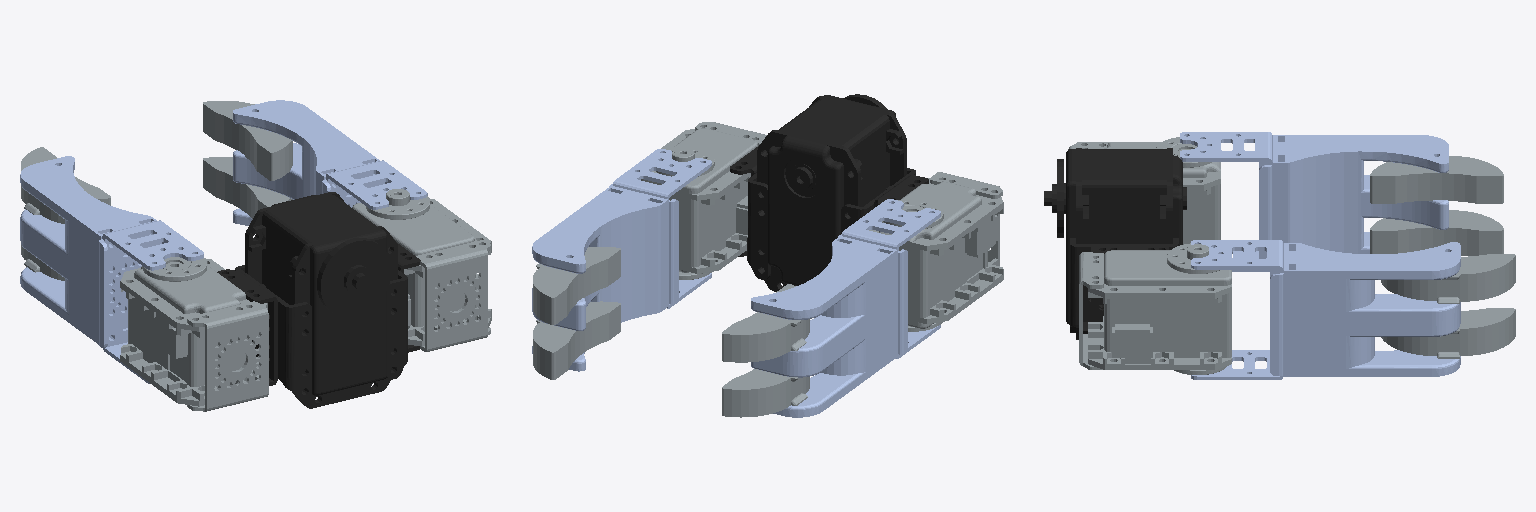
The robot description file, URDF, robot "gripper":
<?xml version="1.0" encoding="utf-8"?>



<robot name="gripper">
  <link name="base_link">
    <inertial>
      <origin
        xyz="-9.6291E-09 -0.00038057 -0.015989"
        rpy="0 0 0" />
      <mass
        value="0.080698" />
      <inertia
        ixx="3.1972E-05"
        ixy="-1.1635E-11"
        ixz="-1.916E-12"
        iyy="2.5871E-05"
        iyz="8.8121E-07"
        izz="1.8242E-05" />
    </inertial>
    <visual>
      <origin
        xyz="0 0 0"
        rpy="0 0 0" />
      <geometry>
        <mesh
          filename="package://gripper/meshes/gripper_base_link.STL" />
      </geometry>
      <material
        name="">
        <color
          rgba="0.2 0.2 0.2 1" />
      </material>
    </visual>
    <collision>
      <origin
        xyz="0 0 0"
        rpy="0 0 0" />
      <geometry>
        <mesh
          filename="package://gripper/meshes/gripper_base_link.STL" />
      </geometry>
    </collision>
  </link>
  <link
    name="motor1_link">
    <inertial>
      <origin
        xyz="-6.8132E-06 -0.011983 -1.1247E-05"
        rpy="0 0 0" />
      <mass
        value="0.046265" />
      <inertia
        ixx="1.2462E-05"
        ixy="-2.2251E-09"
        ixz="1.7814E-13"
        iyy="7.8259E-06"
        iyz="-1.8276E-07"
        izz="1.0506E-05" />
    </inertial>
    <visual>
      <origin
        xyz="0 0 0"
        rpy="0 0 0" />
      <geometry>
        <mesh
          filename="package://gripper/meshes/motor1_link.STL" />
      </geometry>
      <material
        name="">
        <color
          rgba="0.64314 0.67843 0.69804 1" />
      </material>
    </visual>
    <collision>
      <origin
        xyz="0 0 0"
        rpy="0 0 0" />
      <geometry>
        <mesh
          filename="package://gripper/meshes/motor1_link.STL" />
      </geometry>
    </collision>
  </link>
  <joint
    name="gripper_motor1_joint"
    type="fixed">
    <origin
      xyz="0.0448 0.025822 -0.022247"
      rpy="0 0 0" />
    <parent
      link="base_link" />
    <child
      link="motor1_link" />
    <axis
      xyz="0 0 0" />
  </joint>
  <link
    name="hand1_link">
    <inertial>
      <origin
        xyz="0.020 0.014965 -0.021264"
        rpy="0 0 0" />
      <mass
        value="0.034799" />
      <inertia
        ixx="1.1668E-05"
        ixy="1.0081E-14"
        ixz="1.9718E-14"
        iyy="1.5945E-05"
        iyz="1.2429E-07"
        izz="6.7071E-06" />
    </inertial>
    <visual>
      <origin
        xyz="-0.013 0.03 0.022"
        rpy="1.5707 1.5707 0" />
      <geometry>
        <mesh
          filename="package://gripper/meshes/hand1_link.STL" />
      </geometry>
      <material
        name="">
        <color
          rgba="0.73333 0.8 0.93333 1" />
      </material>
    </visual>
    <collision>
      <origin
        xyz="0 0 0"
        rpy="0 0 0" />
      <geometry>
        <mesh
          filename="package://gripper/meshes/hand1_link.STL" />
      </geometry>
    </collision>
  </link>
  <joint
    name="motor1_hand_joint"
    type="revolute">
    <origin
      xyz="0 0 0"
      rpy="0 0 0" />
    <parent
      link="motor1_link" />
    <child
      link="hand1_link" />
    <axis
      xyz="0 0 1" />
    <limit
      lower="-1"
      upper="1"
      effort="10"
      velocity="0.5" />
  </joint>
  <link
    name="fingertip1_1_link">
    <inertial>
      <origin
        xyz="-0.0010321 0.0050002 -3.5129E-05"
        rpy="0 0 0" />
      <mass
        value="0.0062622" />
      <inertia
        ixx="9.7768E-07"
        ixy="1.568E-11"
        ixz="1.5157E-09"
        iyy="1.0446E-06"
        iyz="5.6166E-12"
        izz="1.8516E-07" />
    </inertial>
    <visual>
      <origin
        xyz="0 0 0"
        rpy="1.5708 0 3.141592" />
      <geometry>
        <mesh
          filename="package://gripper/meshes/fingertip1_1_link.STL" />
      </geometry>
      <material
        name="">
        <color
          rgba="0.64314 0.67843 0.69804 1" />
      </material>
    </visual>
    <collision>
      <origin
        xyz="0 0 0"
        rpy="0 0 0" />
      <geometry>
        <mesh
          filename="package://gripper/meshes/fingertip1_1_link.STL" />
      </geometry>
    </collision>
  </link>
  <joint
    name="hand1_fingertip1_joint"
    type="revolute">
    <origin
      xyz="-0.0056 0.0877 0.0055"
      rpy="0 0 0" />
    <parent
      link="hand1_link" />
    <child
      link="fingertip1_1_link" />
    <axis
      xyz="0 0 1" />
    <limit
      lower="-1"
      upper="1"
      effort="10"
      velocity="0.5" />
  </joint>
  <link
    name="fingertip1_2_link">
    <inertial>
      <origin
        xyz="-0.0010321 0.0050002 -3.5129E-05"
        rpy="0 0 0" />
      <mass
        value="0.0062622" />
      <inertia
        ixx="9.7768E-07"
        ixy="1.5681E-11"
        ixz="1.5157E-09"
        iyy="1.0446E-06"
        iyz="5.6167E-12"
        izz="1.8516E-07" />
    </inertial>
    <visual>
      <origin
        xyz="0 0 0"
        rpy="-1.5708 0 3.141592" />
      <geometry>
        <mesh
          filename="package://gripper/meshes/fingertip1_2_link.STL" />
      </geometry>
      <material
        name="">
        <color
          rgba="0.64314 0.67843 0.69804 1" />
      </material>
    </visual>
    <collision>
      <origin
        xyz="0 0 0"
        rpy="0 0 0" />
      <geometry>
        <mesh
          filename="package://gripper/meshes/fingertip1_2_link.STL" />
      </geometry>
    </collision>
  </link>
  <joint
    name="hand1_fingertip2_joint"
    type="revolute">
    <origin
      xyz="-0.0056 0.0877 -0.0055"
      rpy="0 0 0" />
    <parent
      link="hand1_link" />
    <child
      link="fingertip1_2_link" />
    <axis
      xyz="0 0 1" />
    <limit
      lower="-1"
      upper="1"
      effort="10"
      velocity="0.5" />
  </joint>

  <link
    name="motor2_link">
    <inertial>
      <origin
        xyz="-6.81872308854609E-06 -0.0119928783986908 5.17211606763587E-06"
        rpy="0 0 0" />
      <mass
        value="0.0462274482802833" />
      <inertia
        ixx="1.24622128074611E-05"
        ixy="-2.22508786119693E-09"
        ixz="1.8268813185573E-13"
        iyy="7.82573953054426E-06"
        iyz="-1.82755036692311E-07"
        izz="1.05054790707959E-05" />
    </inertial>
    <visual>
      <origin
        xyz="0 0 0"
        rpy="0 0 0" />
      <geometry>
        <mesh
          filename="package://gripper/meshes/motor2_link.STL" />
      </geometry>
      <material
        name="">
        <color
          rgba="0.643137254901961 0.67843137254902 0.698039215686274 1" />
      </material>
    </visual>
    <collision>
      <origin
        xyz="0 0 0"
        rpy="0 0 0" />
      <geometry>
        <mesh
          filename="package://gripper/meshes/motor2_link.STL" />
      </geometry>
    </collision>
  </link>
  <joint
    name="gripper_motor2_joint"
    type="fixed">
    <origin
      xyz="-0.0448 0.021922 -0.022197"
      rpy="-3.1416 0 3.1416" />
    <parent
      link="base_link" />
    <child
      link="motor2_link" />
    <axis
      xyz="0 0 0" />
  </joint>
  <link
    name="hand2_link">
    <inertial>
      <origin
        xyz="0.0220000000752691 0.0149653706200003 -0.0212637563454309"
        rpy="0 0 0" />
      <mass
        value="0.0347994466456583" />
      <inertia
        ixx="1.16677313950533E-05"
        ixy="1.00809740098804E-14"
        ixz="1.97184247731626E-14"
        iyy="1.59453274627637E-05"
        iyz="1.24290823789907E-07"
        izz="6.70710825023172E-06" />
    </inertial>
    <visual>
      <origin
        xyz="-0.013 0.03 0.022"
        rpy="1.5707 1.5707 0" />
      <geometry>
        <mesh
          filename="package://gripper/meshes/hand2_link.STL" />
      </geometry>
      <material
        name="">
        <color
          rgba="0.733333333333333 0.8 0.933333333333333 1" />
      </material>
    </visual>
    <collision>
      <origin
        xyz="0 0 0"
        rpy="0 0 0" />
      <geometry>
        <mesh
          filename="package://gripper/meshes/hand2_link.STL" />
      </geometry>
    </collision>
  </link>
  <joint
    name="motor2_hand_joint"
    type="revolute">
    <origin
      xyz="0 0 0"
      rpy="0 0 0" />
    <parent
      link="motor2_link" />
    <child
      link="hand2_link" />
    <axis
      xyz="0 0 1" />
    <limit
      lower="-1"
      upper="1"
      effort="10"
      velocity="0.5" />
  </joint>
  <link
    name="fingertip2_1_link">
    <inertial>
      <origin
        xyz="-0.00103213757770203 0.00500024041740617 -3.51285615308589E-05"
        rpy="0 0 0" />
      <mass
        value="0.00626220315523217" />
      <inertia
        ixx="9.7767596887376E-07"
        ixy="1.56803668594996E-11"
        ixz="1.5157444715102E-09"
        iyy="1.04455526714601E-06"
        iyz="5.61662128246886E-12"
        izz="1.8516351841874E-07" />
    </inertial>
    <visual>
      <origin
        xyz="0 0 0"
        rpy="1.5708 0 3.141592" />
      <geometry>
        <mesh
          filename="package://gripper/meshes/fingertip2_1_link.STL" />
      </geometry>
      <material
        name="">
        <color
          rgba="0.643137254901961 0.67843137254902 0.698039215686274 1" />
      </material>
    </visual>
    <collision>
      <origin
        xyz="0 0 0"
        rpy="0 0 0" />
      <geometry>
        <mesh
          filename="package://gripper/meshes/fingertip2_1_link.STL" />
      </geometry>
    </collision>
  </link>
  <joint
    name="hand2_fingertip1_joint"
    type="revolute">
    <origin
      xyz="-0.0056 0.0877 0.0055"
      rpy="0 0 0" />
      
    <parent
      link="hand2_link" />
    <child
      link="fingertip2_1_link" />
    <axis
      xyz="0 0 1" />
    <limit
      lower="-1"
      upper="1"
      effort="10"
      velocity="0.5" />
  </joint>
  <link
    name="fingertip2_2_link">
    <inertial>
      <origin
        xyz="-0.00103213758851112 0.00500024042187516 -3.51285664263457E-05"
        rpy="0 0 0" />
      <mass
        value="0.00626220316616597" />
      <inertia
        ixx="9.77675969200664E-07"
        ixy="1.56806262615851E-11"
        ixz="1.51574413550611E-09"
        iyy="1.04455526789645E-06"
        iyz="5.6167744165921E-12"
        izz="1.85163518907813E-07" />
    </inertial>
    <visual>
      <origin
        xyz="0 0 0"
        rpy="-1.5708 0 3.141592" />
      <geometry>
        <mesh
          filename="package://gripper/meshes/fingertip2_2_link.STL" />
      </geometry>
      <material
        name="">
        <color
          rgba="0.643137254901961 0.67843137254902 0.698039215686274 1" />
      </material>
    </visual>
    <collision>
      <origin
        xyz="0 0 0"
        rpy="0 0 0" />
      <geometry>
        <mesh
          filename="package://gripper/meshes/fingertip2_2_link.STL" />
      </geometry>
    </collision>
  </link>
  <joint
    name="hand2_fingertip2_joint"
    type="revolute">
    <origin
      xyz="-0.0056 0.0877 -0.0055"
      rpy="0 0 0" />
    <parent
      link="hand2_link" />
    <child
      link="fingertip2_2_link" />
    <axis
      xyz="0 0 1" />
    <limit
      lower="-1"
      upper="1"
      effort="10"
      velocity="0.5" />
  </joint>
</robot>

--- What the picture shows (computed from the rendered views, not written in the file) ---
Views: 3 orthographic renders of the robot side by side, from view 1: azimuth 30°, elevation 25°; view 2: azimuth 150°, elevation 25°; view 3: azimuth 270°, elevation 25°.
Robot: gripper — 9 links, 8 joints (6 revolute, 2 fixed); root link base_link; default pose: all joints at 0.
Visible links, largest first — view 1: base_link, motor2_link, hand2_link, motor1_link, hand1_link, fingertip1_1_link, fingertip1_2_link, fingertip2_2_link; view 2: base_link, hand2_link, hand1_link, motor2_link, motor1_link, fingertip1_1_link, fingertip1_2_link, fingertip2_2_link, fingertip2_1_link; view 3: hand1_link, hand2_link, motor1_link, base_link, fingertip2_2_link, fingertip2_1_link, fingertip1_1_link, motor2_link, fingertip1_2_link.
Link boxes in pixels (x1,y1,x2,y2): base_link: [217, 192, 420, 408]; motor2_link: [120, 257, 268, 411]; hand2_link: [20, 156, 203, 383]; motor1_link: [352, 189, 491, 351]; hand1_link: [233, 100, 427, 225]; fingertip1_1_link: [203, 101, 292, 180]; fingertip1_2_link: [203, 157, 292, 218]; fingertip2_2_link: [21, 147, 110, 223]; base_link: [730, 94, 928, 291]; hand2_link: [751, 199, 940, 417]; hand1_link: [532, 149, 711, 371]; motor2_link: [869, 172, 1003, 331]; motor1_link: [641, 122, 766, 279]; fingertip1_1_link: [533, 247, 620, 324]; fingertip1_2_link: [533, 301, 620, 379]; fingertip2_2_link: [722, 284, 809, 362]; fingertip2_1_link: [722, 369, 809, 417]; hand1_link: [1191, 240, 1460, 379]; hand2_link: [1180, 132, 1448, 271]; motor1_link: [1079, 243, 1231, 374]; base_link: [1044, 148, 1186, 339]; fingertip2_2_link: [1370, 156, 1503, 203]; fingertip2_1_link: [1370, 210, 1503, 255]; fingertip1_1_link: [1381, 254, 1515, 303]; motor2_link: [1068, 137, 1220, 244]; fingertip1_2_link: [1381, 308, 1515, 358].
Bounding box of the posed robot: 0.1252 × 0.1651 × 0.0621 m (x, y, z).
9 mesh visuals loaded from 9 distinct referenced files (9 binary STL).